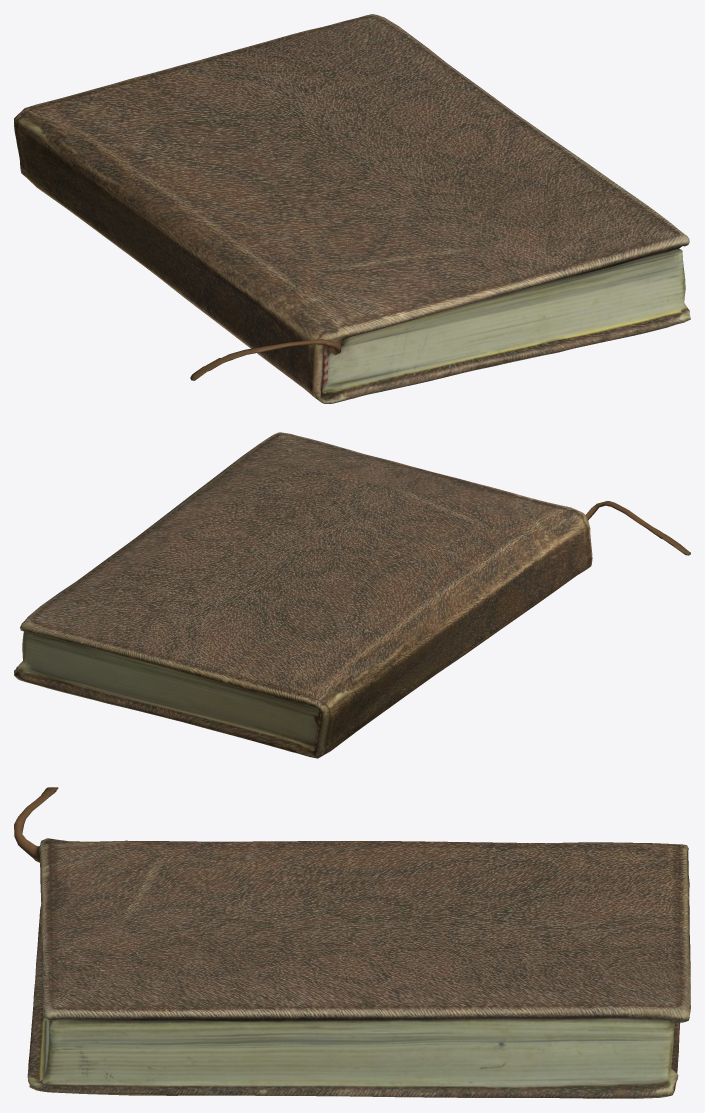
The model's file is pb153_notebook_low.glb.
3 renders of one model, top to bottom at view 1: azimuth 30°, elevation 25°; view 2: azimuth 150°, elevation 25°; view 3: azimuth 270°, elevation 25°, orthographic. The views are drawn at different scales.
Parts seen in each view (by area): view 1: Object_2; view 2: Object_2; view 3: Object_2.
Part boxes in pixels (box(x1,y1,x2,y2)): Object_2: box(14, 14, 690, 403); Object_2: box(14, 432, 690, 758); Object_2: box(14, 787, 690, 1098).
Size of the model in its own units: 18.24 by 3.23 by 20.31.
1 material, 1 textured.
